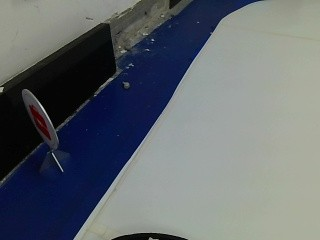company: (20, 92, 59, 151)
